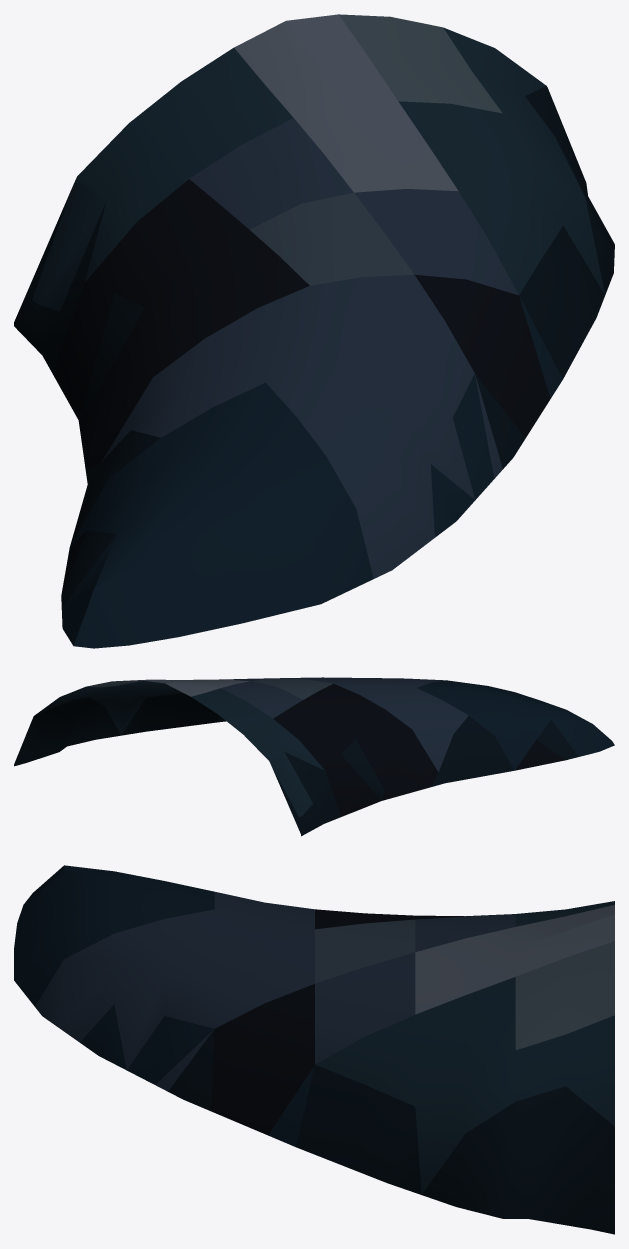
The model's file is gyges_pincer_39.glb.
3 renders of one model, top to bottom at view 1: azimuth 30°, elevation 25°; view 2: azimuth 150°, elevation 25°; view 3: azimuth 270°, elevation 25°, orthographic. The views are drawn at different scales.
Visible parts, largest first — view 1: gyges_pincer_39_pincer; view 2: gyges_pincer_39_pincer; view 3: gyges_pincer_39_pincer.
Boxes of the visible parts, left/top/right/bottom form: gyges_pincer_39_pincer: left=14, top=14, right=614, bottom=648; gyges_pincer_39_pincer: left=14, top=677, right=614, bottom=836; gyges_pincer_39_pincer: left=14, top=865, right=614, bottom=1234.
Size of the model in its own units: 8.18 by 2.18 by 5.99.
